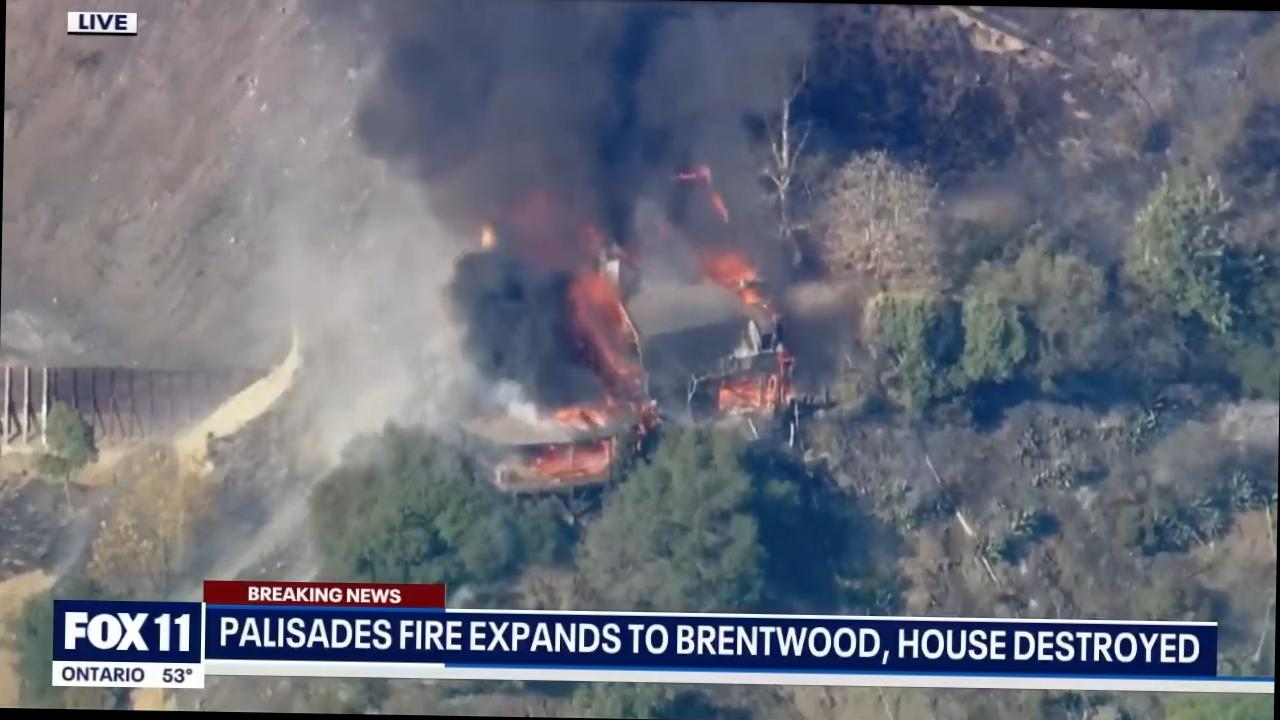Smoke: (362, 0, 832, 400)
